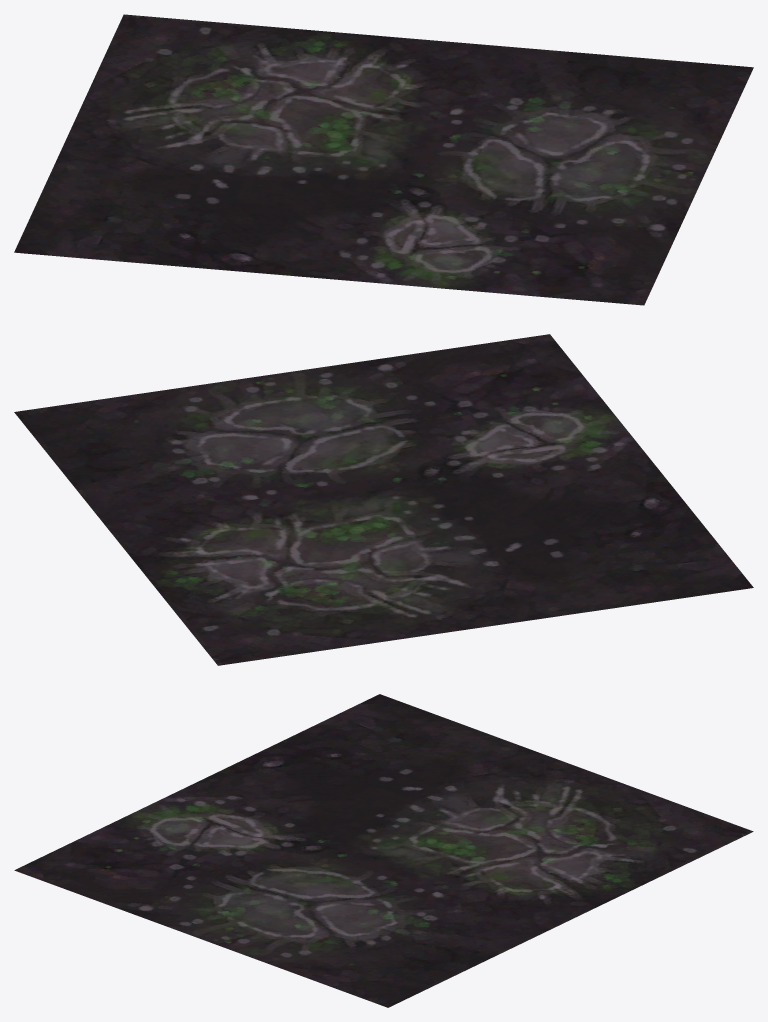
Rendered from cave_floor_mushrooms_05.fbx.
3 renders of one model, top to bottom at view 1: azimuth 30°, elevation 25°; view 2: azimuth 150°, elevation 25°; view 3: azimuth 270°, elevation 25°, orthographic. The views are drawn at different scales.
Parts seen in each view (by area): view 1: cave_tileset/Floormushrooms_01_mat; view 2: cave_tileset/Floormushrooms_01_mat; view 3: cave_tileset/Floormushrooms_01_mat.
Boxes of the visible parts, bbox=[...] form: cave_tileset/Floormushrooms_01_mat: bbox=[14, 14, 753, 305]; cave_tileset/Floormushrooms_01_mat: bbox=[14, 334, 753, 665]; cave_tileset/Floormushrooms_01_mat: bbox=[14, 694, 753, 1007].
Size of the model in its own units: 5.68 by 0 by 5.66.
